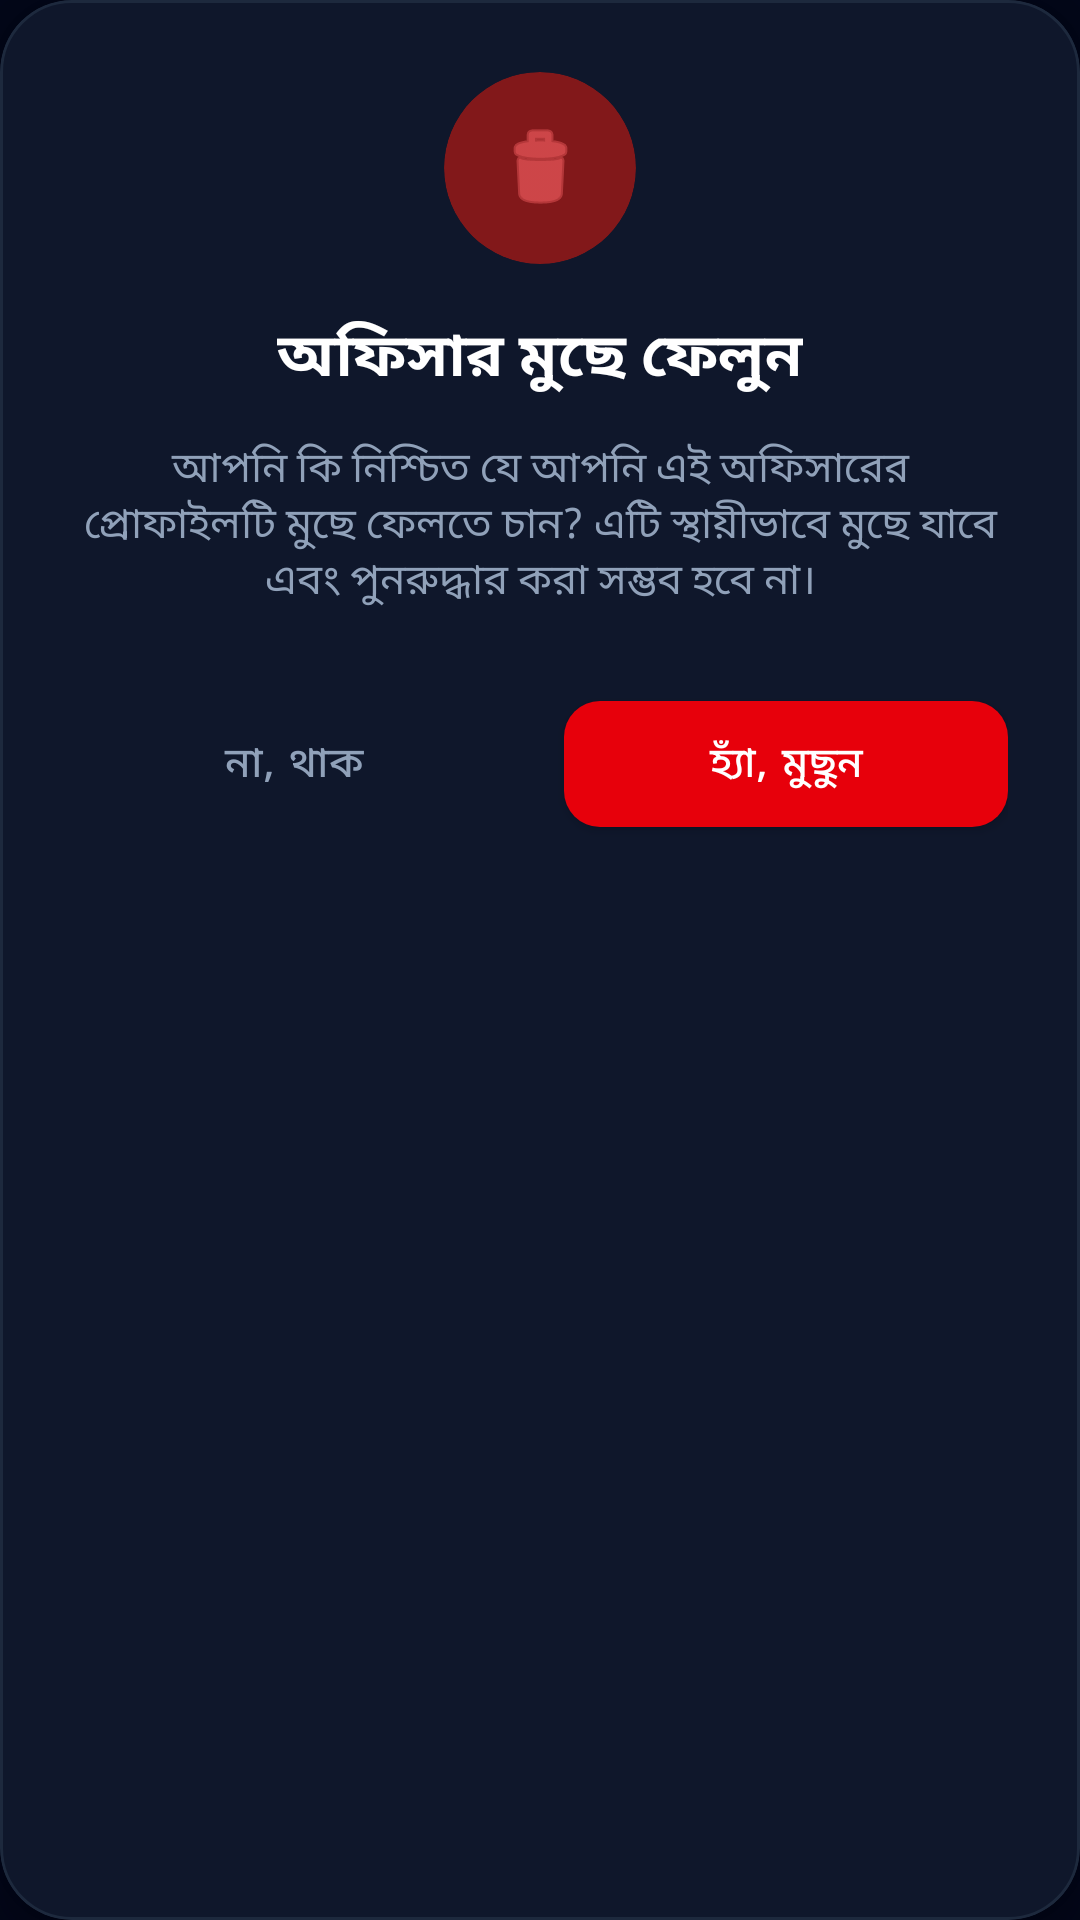

Screen size 1080px x 1920px. Icon name, then its box in pixels as (x1, y1, x2, y2):
delete: (514, 129, 567, 204)
